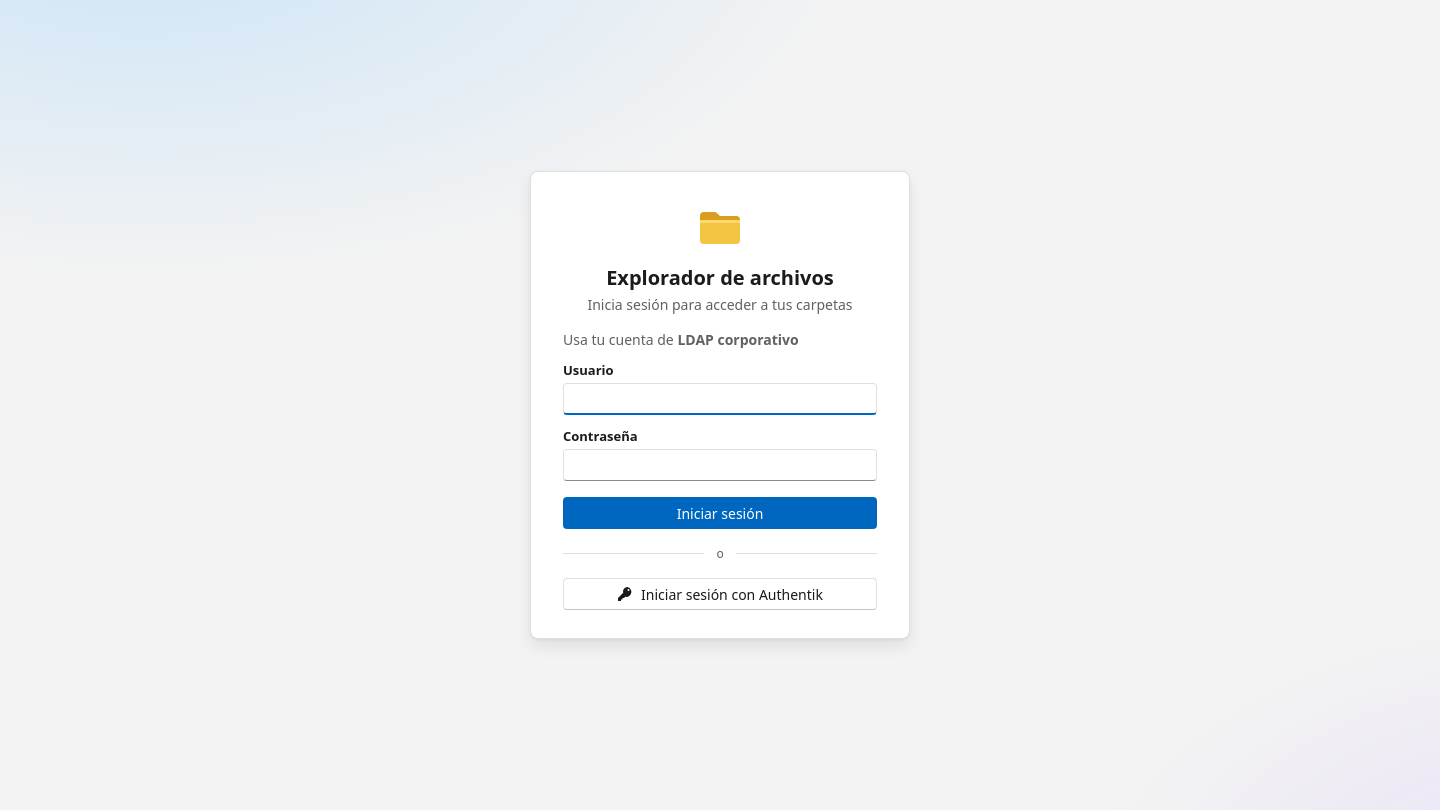
Test: LoginPage › shows a rate limit message
In the field labelled "Usuario": (720,399) top-left (563, 383), bottom-right (877, 415), type "spam"
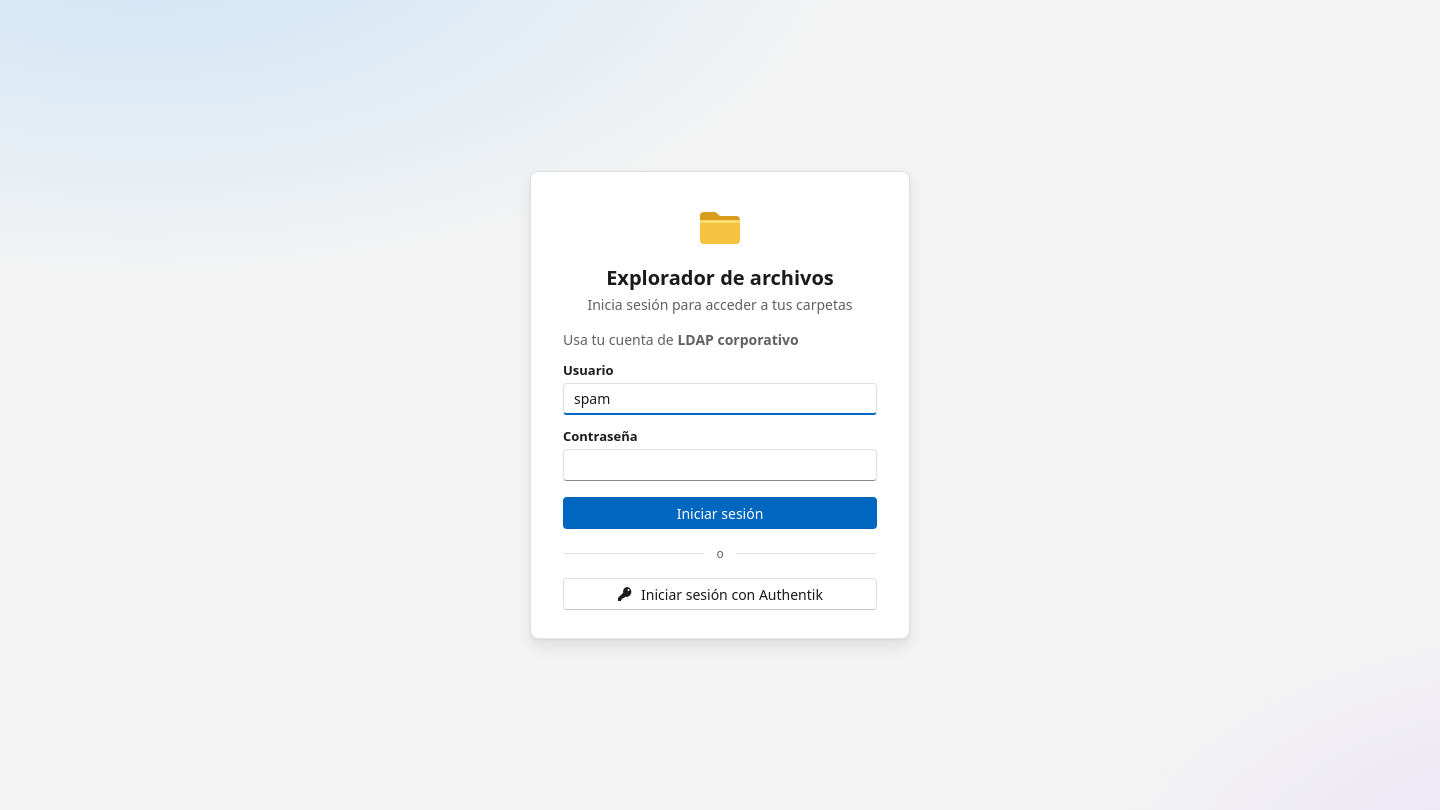
In the password field labelled "Contraseña": (720,465) top-left (563, 449), bottom-right (877, 481), type "x"
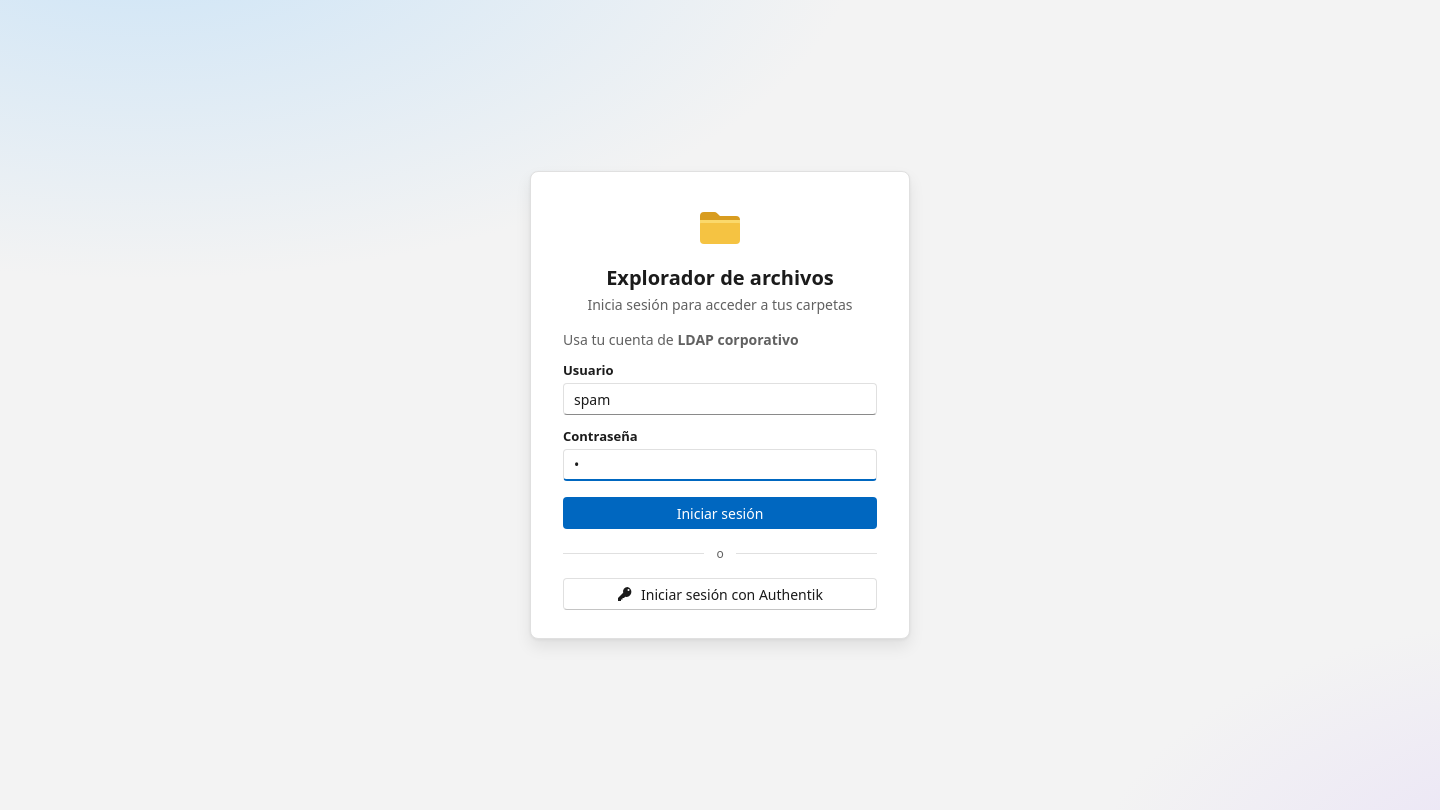
Click the button "Iniciar sesión": (720,513) top-left (563, 497), bottom-right (877, 529)
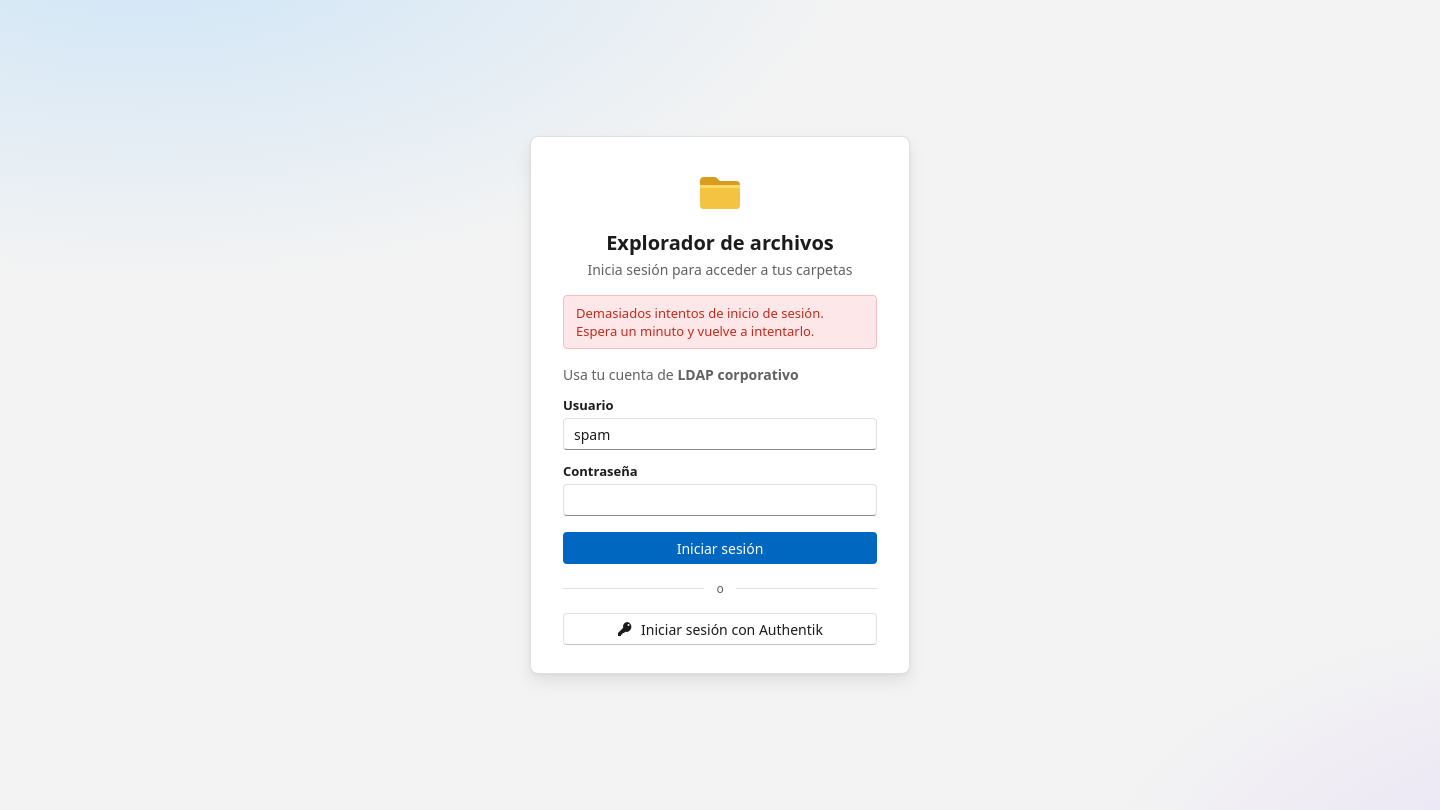
expect the message shows "Demasiados intentos": met, box top-left (576, 304), bottom-right (824, 340)
